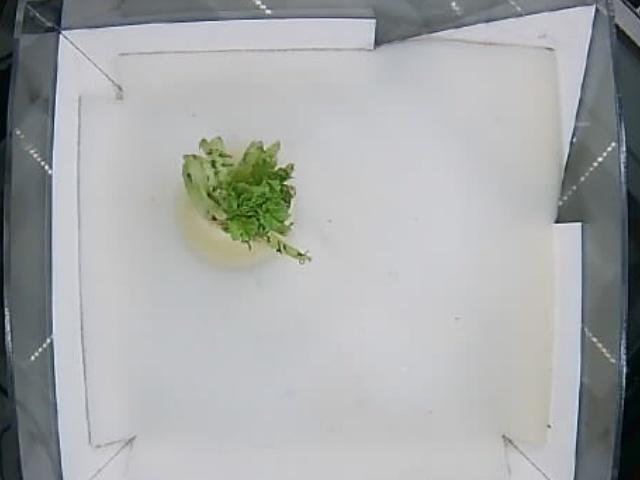Mooli: (182, 135, 313, 271)
